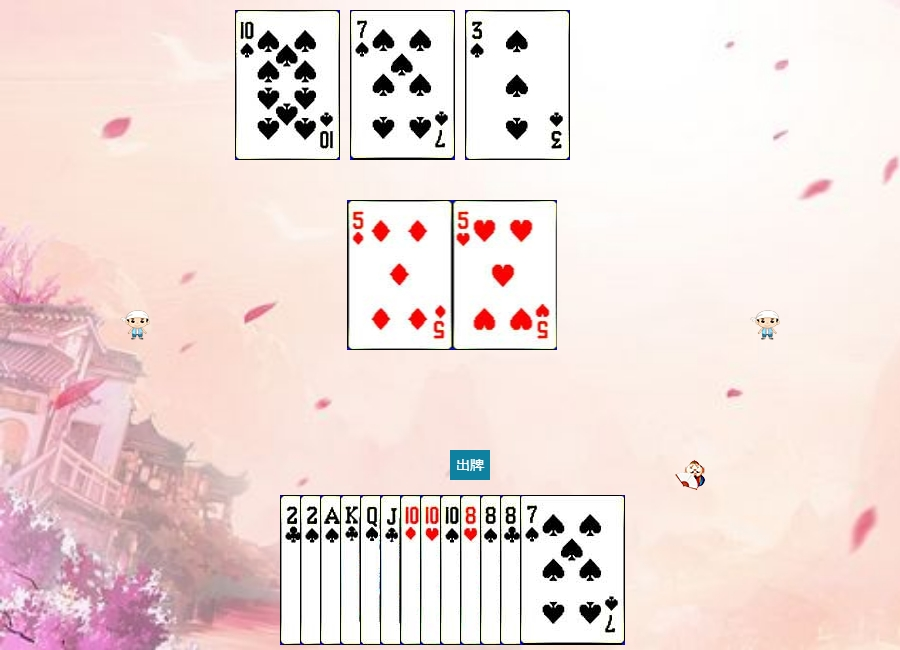10~1: (400, 495, 505, 645)
10~3: (420, 495, 525, 645)
10~4: (235, 10, 340, 160), (440, 495, 545, 645)
11~2: (380, 495, 485, 645)
12~4: (360, 495, 465, 645)
13~2: (340, 495, 445, 645)
14~4: (320, 495, 425, 645)
15~2: (280, 495, 385, 645)
15~4: (300, 495, 405, 645)
3~4: (465, 10, 570, 160)
5~1: (348, 200, 453, 350)
5~3: (453, 200, 558, 350)
7~4: (350, 10, 455, 160), (520, 495, 625, 645)
8~2: (500, 495, 605, 645)
8~3: (460, 495, 565, 645)
8~4: (480, 495, 585, 645)
